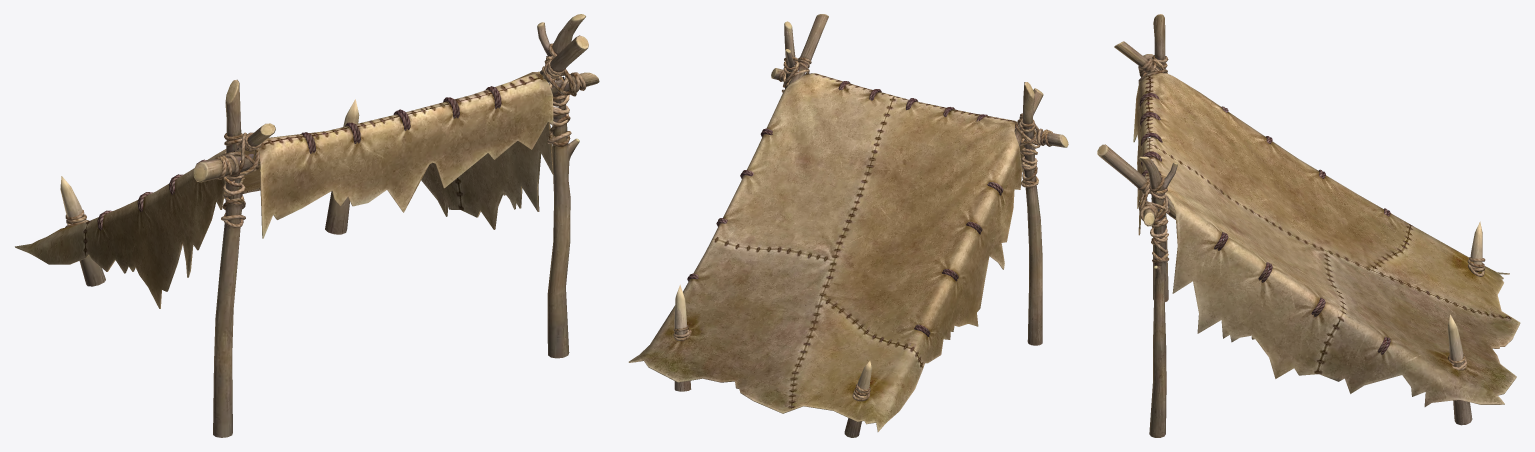
3 views of the same model, side by side, from view 1: azimuth 30°, elevation 25°; view 2: azimuth 150°, elevation 25°; view 3: azimuth 270°, elevation 25° (orthographic). The views are drawn at different scales.
Visible parts, largest first — view 1: SM_Garou_Simple_Tent_01_LOD0; view 2: SM_Garou_Simple_Tent_01_LOD0; view 3: SM_Garou_Simple_Tent_01_LOD0.
Part boxes in pixels (x1,y1,x2,y2): SM_Garou_Simple_Tent_01_LOD0: (15, 14, 599, 437); SM_Garou_Simple_Tent_01_LOD0: (628, 14, 1068, 437); SM_Garou_Simple_Tent_01_LOD0: (1097, 14, 1520, 437).
Bounding box in the file's own units: 3.83 × 3.22 × 4.22.
Materials: 1 (1 with a texture image).
